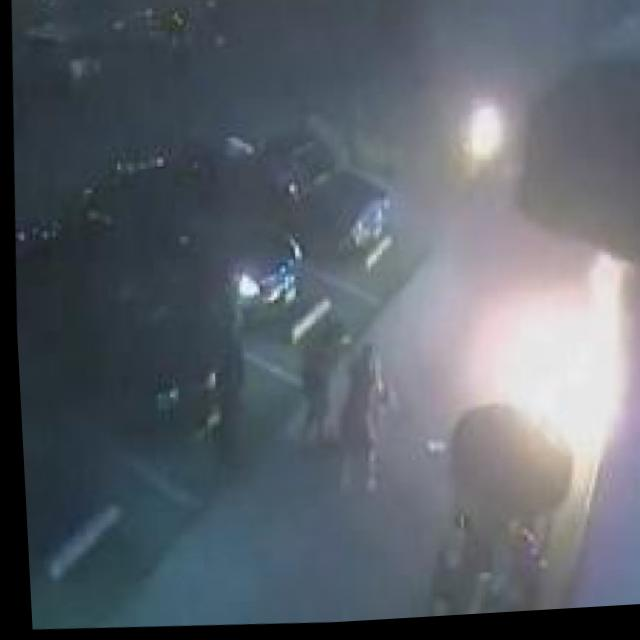fire: (450, 250, 640, 502), (449, 98, 518, 183)
